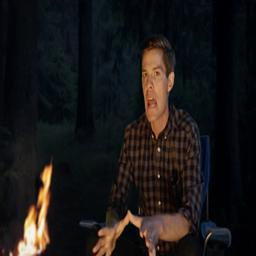fire: (15, 163, 53, 256)
